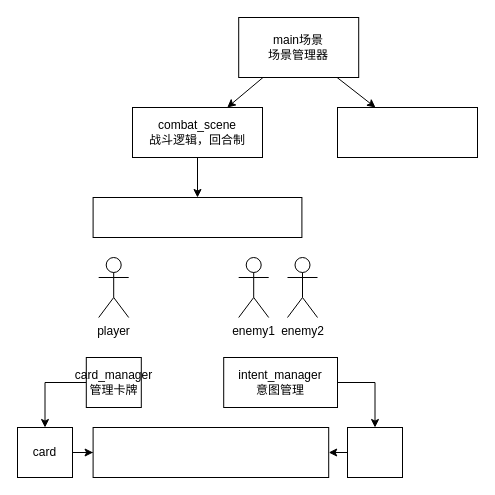
Some shapes in this 495 by 495 pixel diagram are drawn without their labels. Here are the shapes that lost their labels. From the top down, the centre of each, then its label:
At pixel 407 132: "map_scene 地图场景，战斗外逻辑".
At pixel 197 217: "character角色 回合开始、回合结束、生命值、伤害".
At pixel 210 452: "ability_effect 技能效果".
At pixel 374 452: "意图intent".
